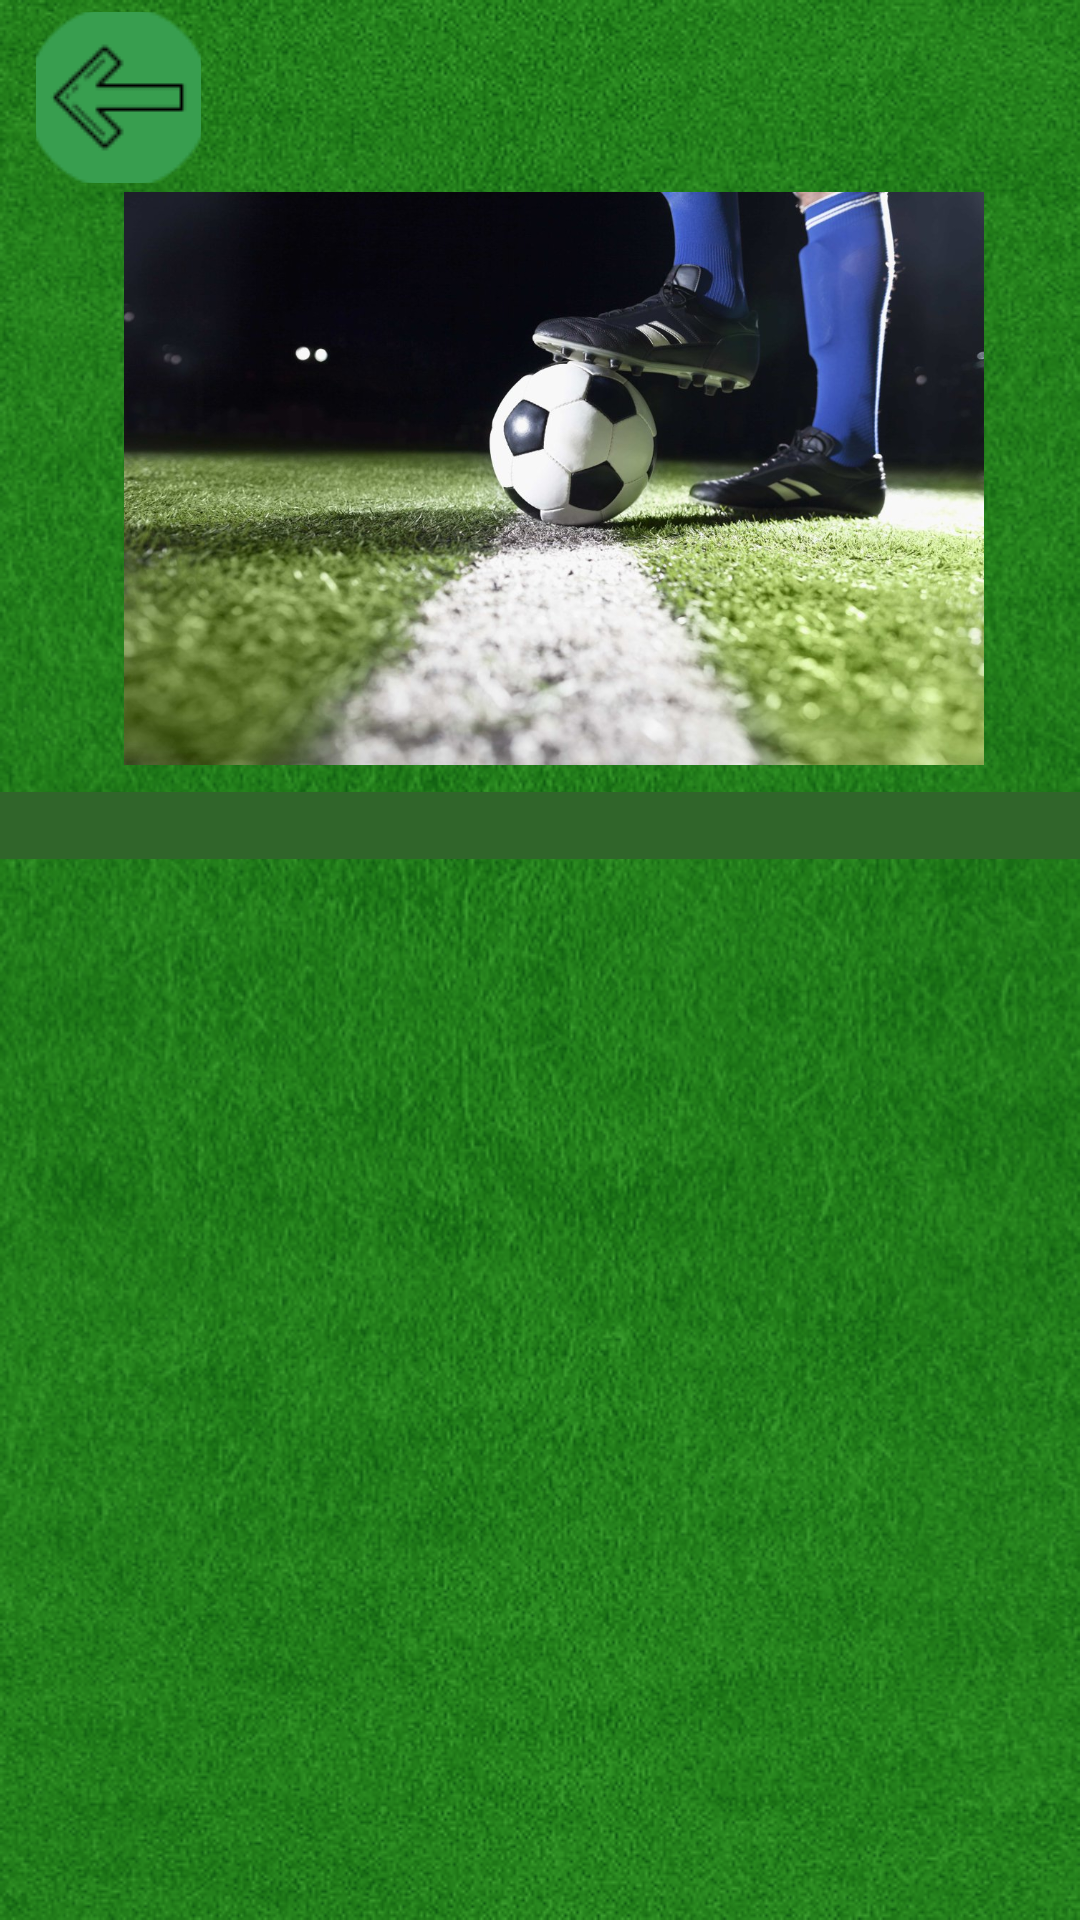

Icon click points for this 1080 x 1920 phone screenshot, format [x,y]:
strelka: [118,97]
